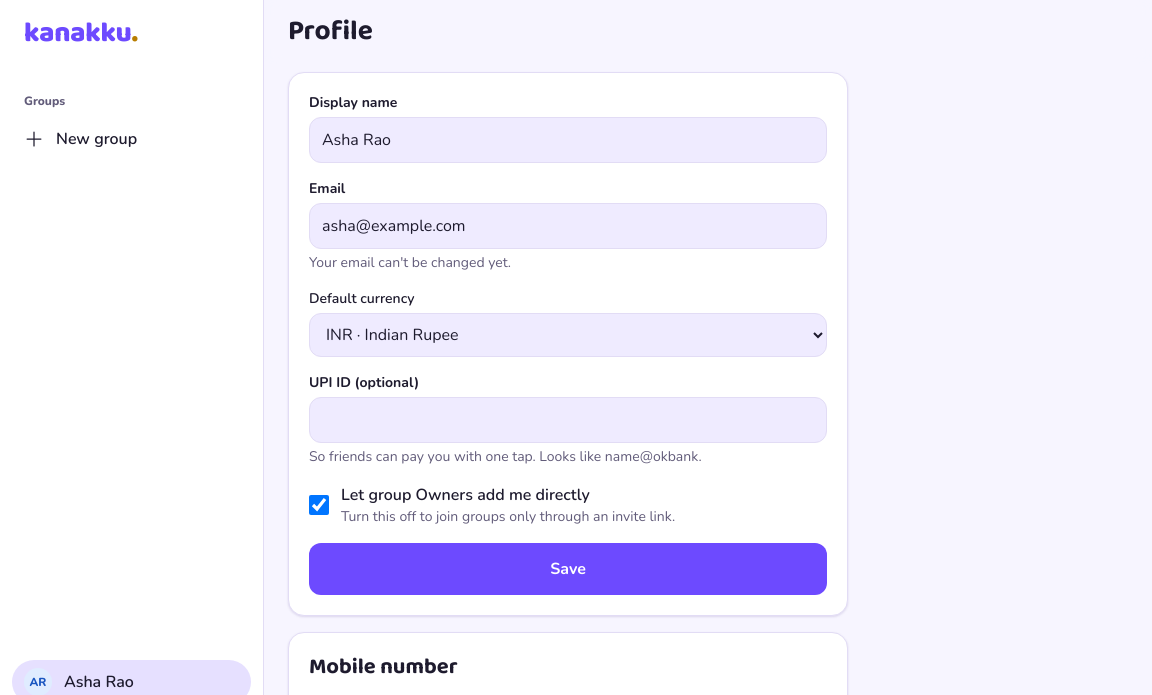
ProfilePage › saves with the version it started from and says so
The width and height of the screenshot is (1152, 695).
Replace the text in the field labelled "Display name" with "Asha K" at (568, 140), box x1=310 y1=118 x2=826 y2=162
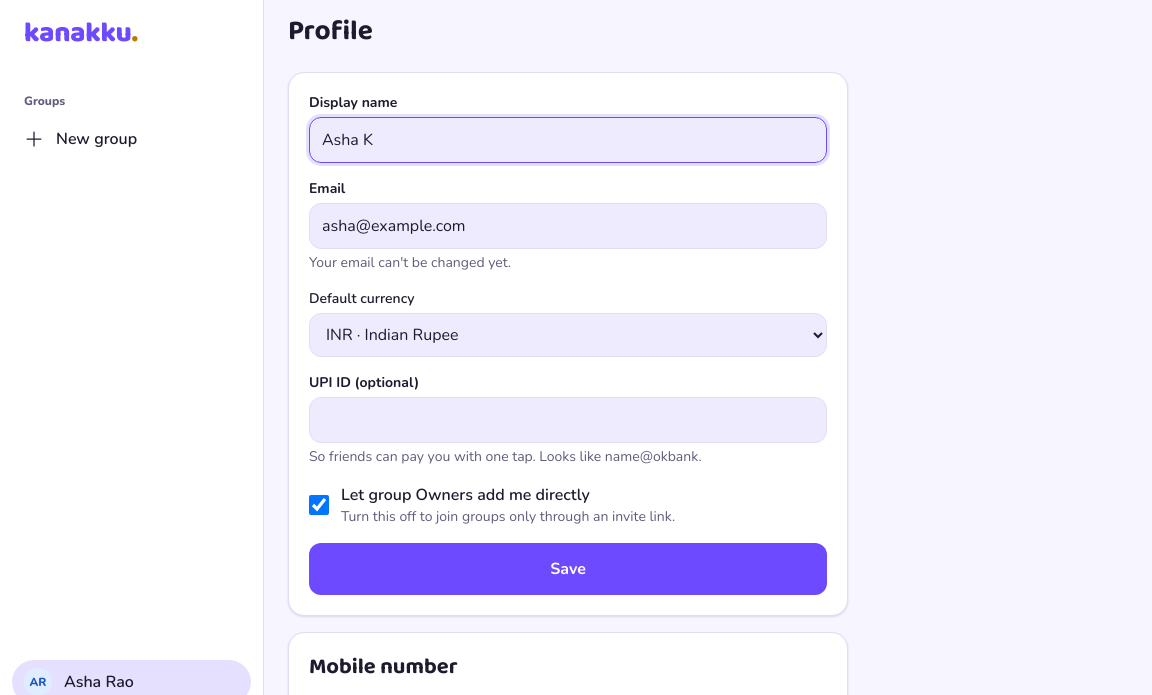
Type "asha@okbank" into the field labelled "UPI ID (optional)" at (568, 420), box x1=310 y1=398 x2=826 y2=442
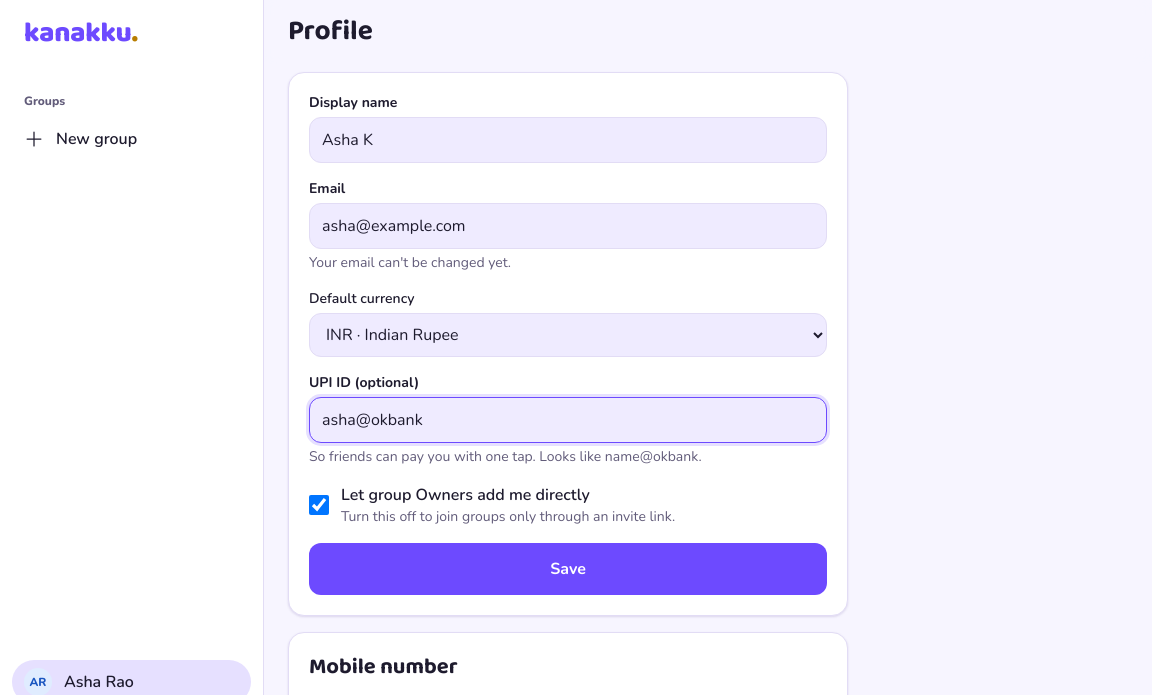
Click the button "Save" at (568, 569), box x1=309 y1=543 x2=827 y2=595
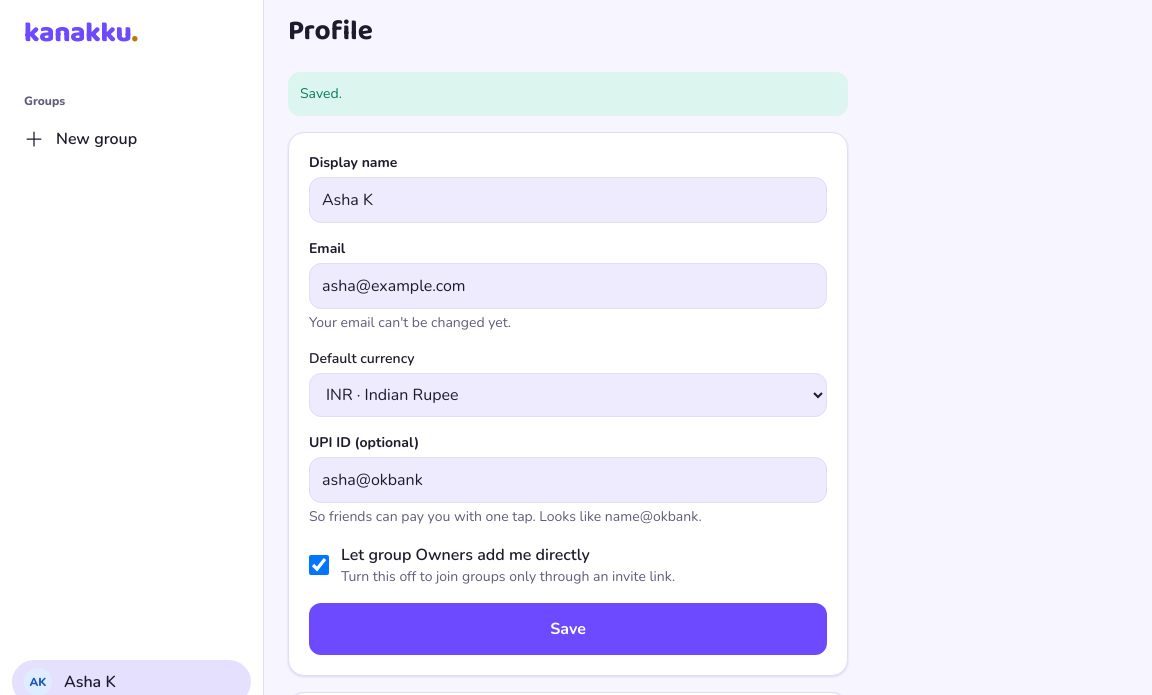
Now the message "Saved." is shown, box x1=288 y1=72 x2=848 y2=116
Now the message reads "Saved.", box x1=300 y1=84 x2=342 y2=103
